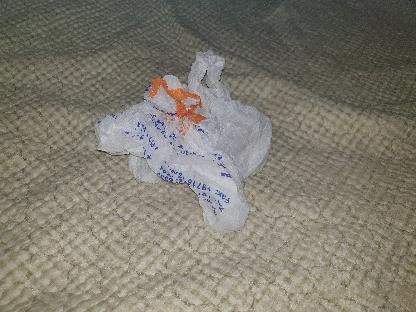Plastic Bag: (86, 45, 278, 245)
